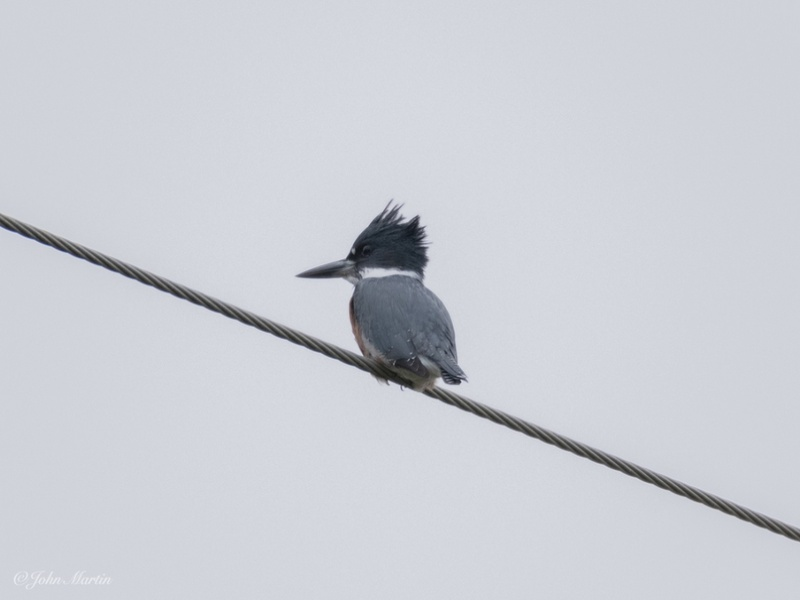kingfisher: (293, 196, 469, 394)
